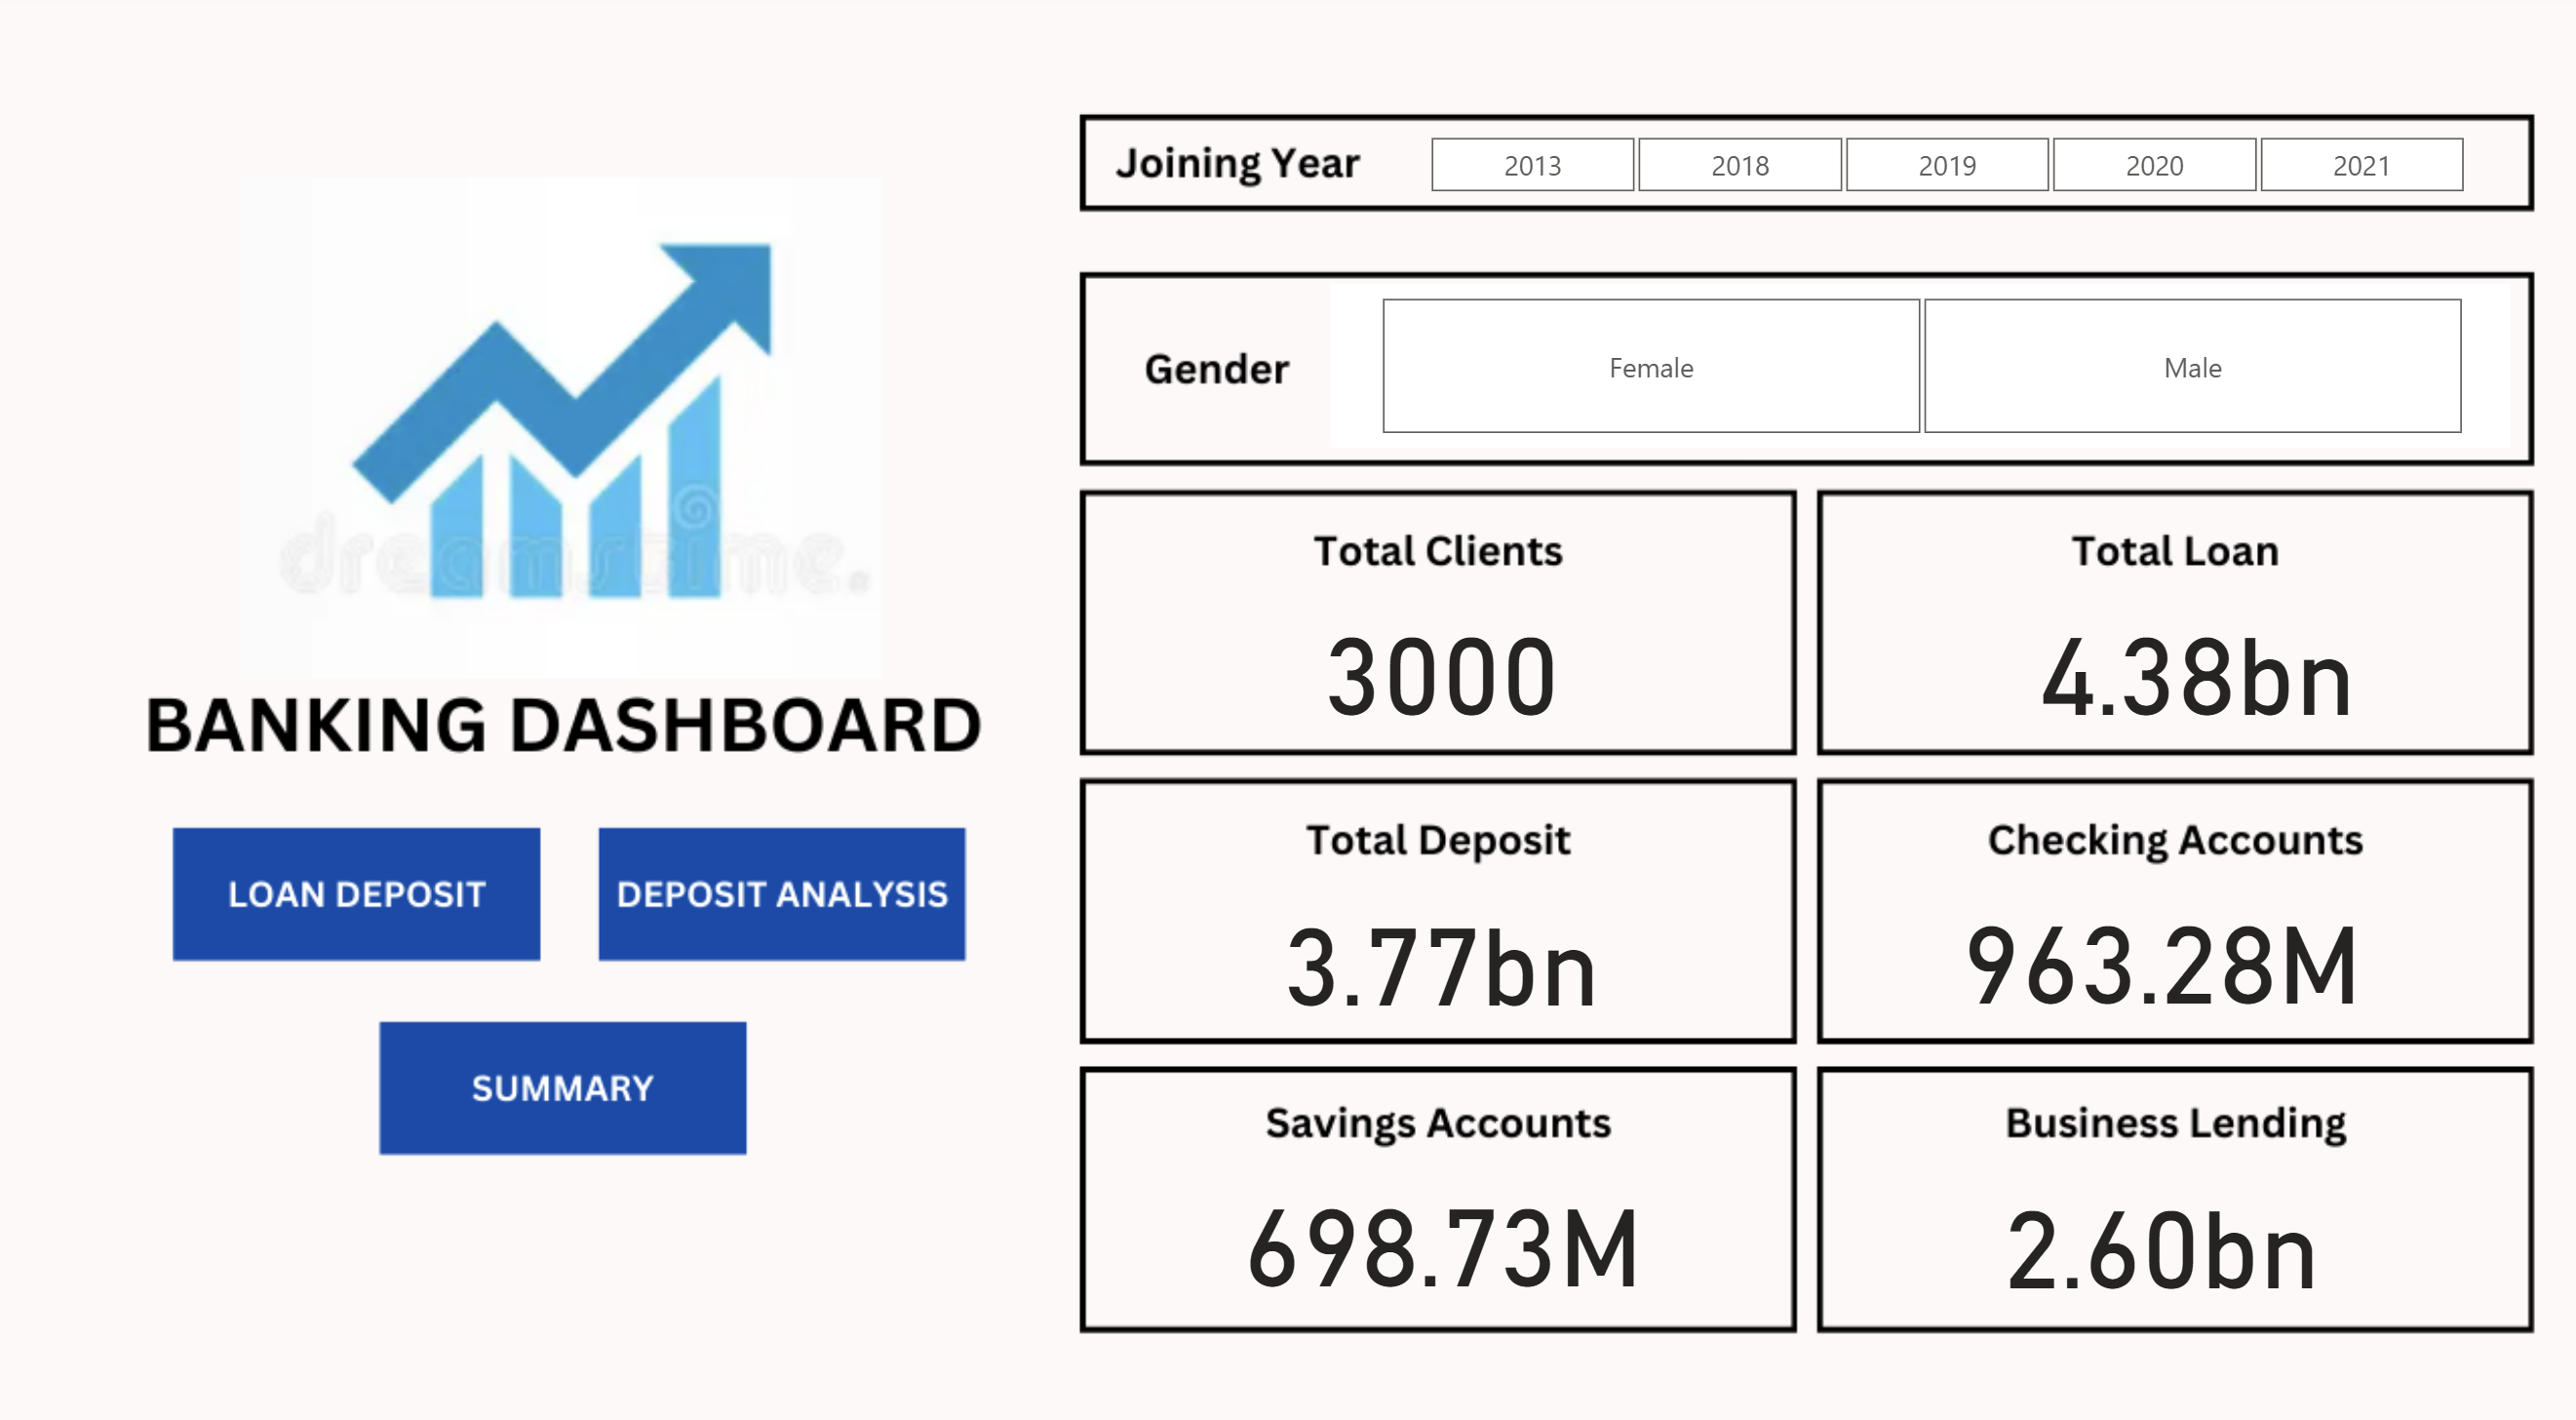

The dashboard page shown, as its layout file describes it:
{"tool":"powerbi","page":{"name":"Home 1","canvas":[1280,720],"ordinal":0},"visuals":[{"type":"card","fields":{"Values":["banking_case customer.Name"]},"box":[607.7,295.9,213.7,74.4],"z":0},{"type":"slicer","fields":{"Values":["banking_case customer.GenderId"]},"box":[659.9,145.6,584,80.7],"z":1000},{"type":"card","fields":{"Values":["banking_case customer.Total Loan"]},"box":[981.5,296.2,213.6,74.7],"z":2000},{"type":"card","fields":{"Values":["banking_case customer.Total Deposit"]},"box":[608,439,213.6,74.7],"z":3000},{"type":"slicer","fields":{"Values":["banking_case customer.Year of Joining"]},"box":[684,66.8,560.9,34.1],"z":4000},{"type":"card","fields":{"Values":["banking_case customer.Saving Accounts"]},"box":[608.3,577.4,214.3,75],"z":5000},{"type":"card","fields":{"Values":["banking_case customer.Business Lending"]},"box":[964.3,578.6,214.3,75],"z":6000},{"type":"card","fields":{"Values":["banking_case customer.Checking Accounts"]},"box":[964.3,438.1,214.3,75],"z":7000}]}

Visuals, with their boxes in screenshot pixels (x1, y1, x2, y2), scaled from the page's 1280x720 canvas onto the 2576x1420 screenshot:
card - banking_case customer.Name: <bbox>1223, 583, 1653, 730</bbox>
slicer - banking_case customer.GenderId: <bbox>1328, 287, 2503, 447</bbox>
card - banking_case customer.Total Loan: <bbox>1975, 584, 2405, 731</bbox>
card - banking_case customer.Total Deposit: <bbox>1224, 866, 1654, 1013</bbox>
slicer - banking_case customer.Year of Joining: <bbox>1377, 132, 2506, 199</bbox>
card - banking_case customer.Saving Accounts: <bbox>1225, 1139, 1656, 1286</bbox>
card - banking_case customer.Business Lending: <bbox>1940, 1141, 2372, 1289</bbox>
card - banking_case customer.Checking Accounts: <bbox>1940, 864, 2372, 1012</bbox>
